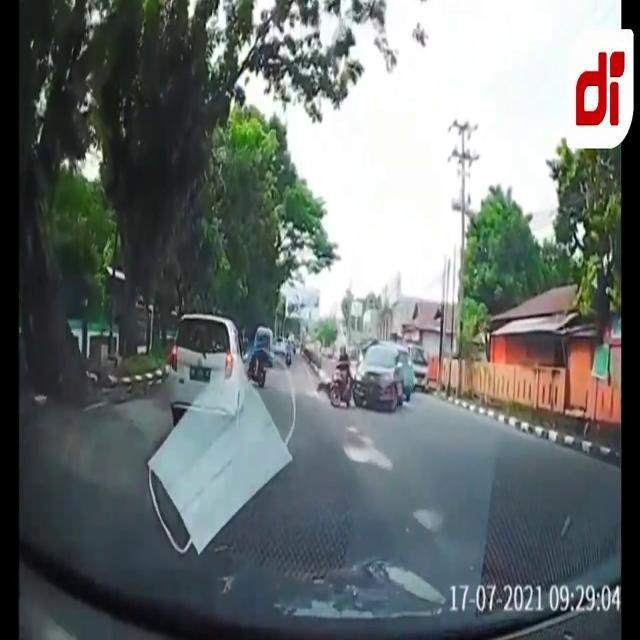multiple_accident: (326, 340, 419, 417)
normal: (163, 305, 257, 437)
